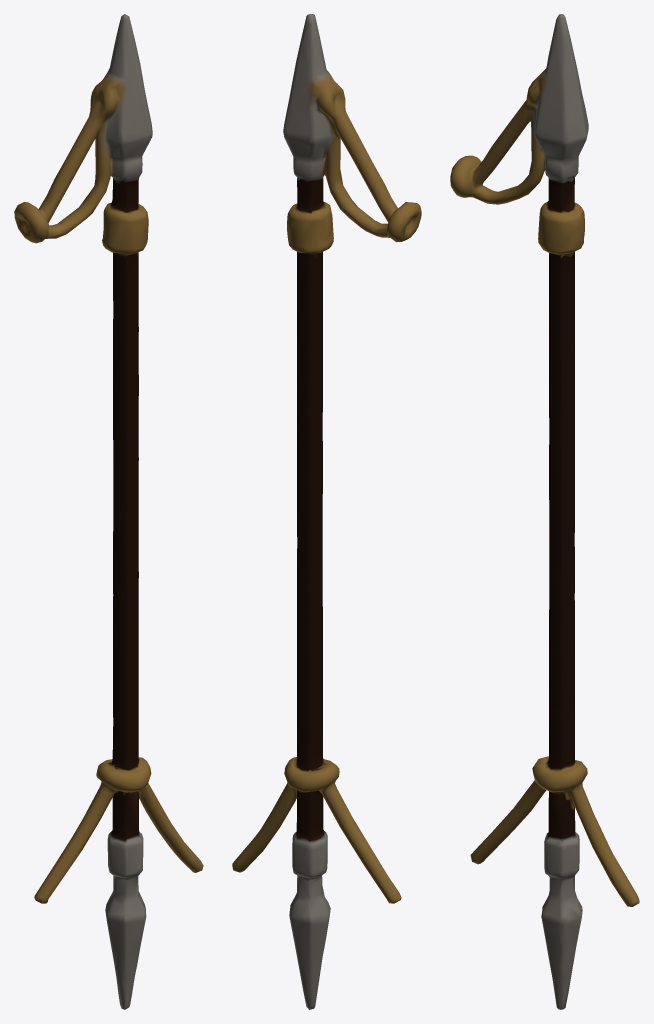
Rendered from gen3d-harpoon-lod0.glb.
The picture shows the model from 3 angles, left to right: view 1: azimuth 30°, elevation 25°; view 2: azimuth 150°, elevation 25°; view 3: azimuth 330°, elevation 25°; orthographic projection.
Parts seen in each view (by area): view 1: part_0; view 2: part_0; view 3: part_0.
Boxes of the visible parts, x1,y1,x2,y2 form: part_0: (14,14,203,1009); part_0: (232,14,421,1009); part_0: (450,14,639,1009).
Bounding box in the file's own units: 0.1907 × 1 × 0.05.
